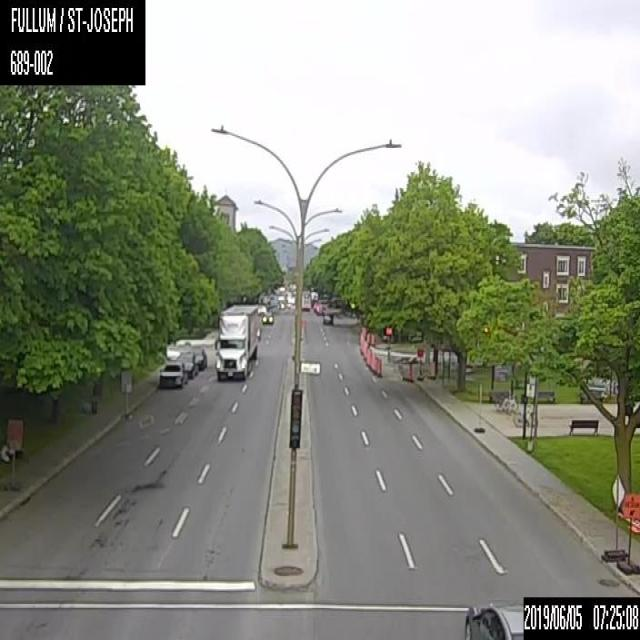construction: (616, 473, 639, 575), (602, 474, 627, 560), (399, 356, 415, 381), (416, 347, 424, 379), (385, 326, 392, 348), (378, 356, 381, 375)
vehicle: (214, 304, 257, 380), (463, 602, 522, 638), (158, 360, 187, 387), (177, 351, 198, 376), (190, 346, 207, 370), (300, 290, 311, 310), (261, 311, 273, 323), (323, 312, 332, 324), (373, 354, 378, 374), (369, 348, 373, 370)
